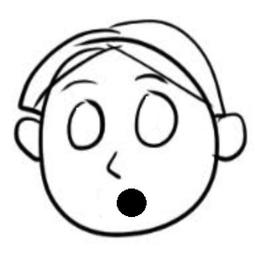ear: (214, 103, 249, 167), (11, 111, 48, 171)
empty_eye: (130, 86, 184, 153), (65, 97, 106, 151)
eyebrow: (132, 72, 168, 85), (62, 79, 101, 90)
open_mouth: (111, 186, 150, 221)
pointy_nose: (106, 150, 122, 186)
